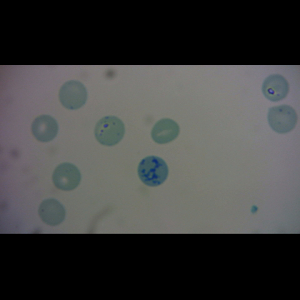aggregate reticulocyte: (137, 155, 169, 187)
erythrocyte: (94, 115, 126, 147), (150, 117, 181, 145), (31, 114, 59, 143), (262, 73, 290, 102)
punctate reticulocyte: (58, 79, 88, 110), (52, 162, 83, 192), (268, 104, 297, 133), (37, 198, 67, 225)
